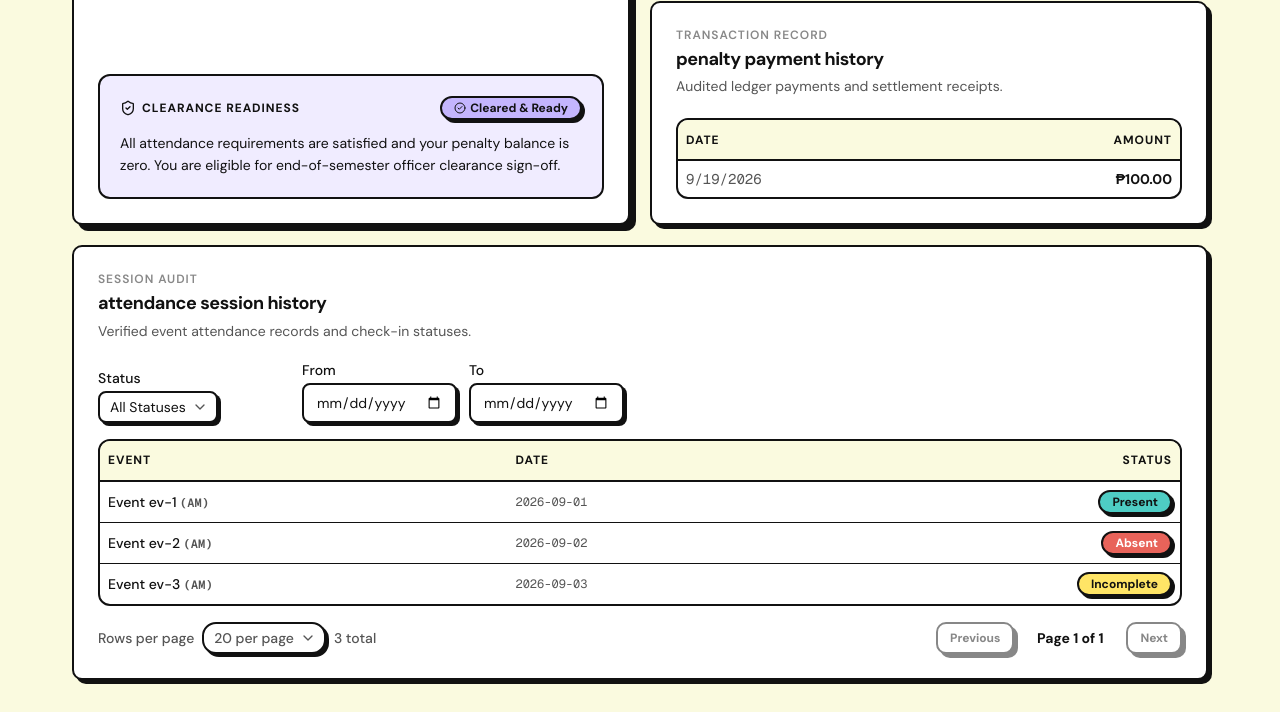
Test: MyAttendanceView session audit filter + pagination (Issue #219) › filters the session audit by status and resets to page 1
The image size is (1280, 712).
(page scrolled)
Expected: the message "Present" is shown, left=1098, top=490, right=1172, bottom=514
Expected: the message "Absent" is shown, left=1101, top=530, right=1172, bottom=554
Click the dropdown named "filter by status" at (158, 406), box left=98, top=390, right=218, bottom=422
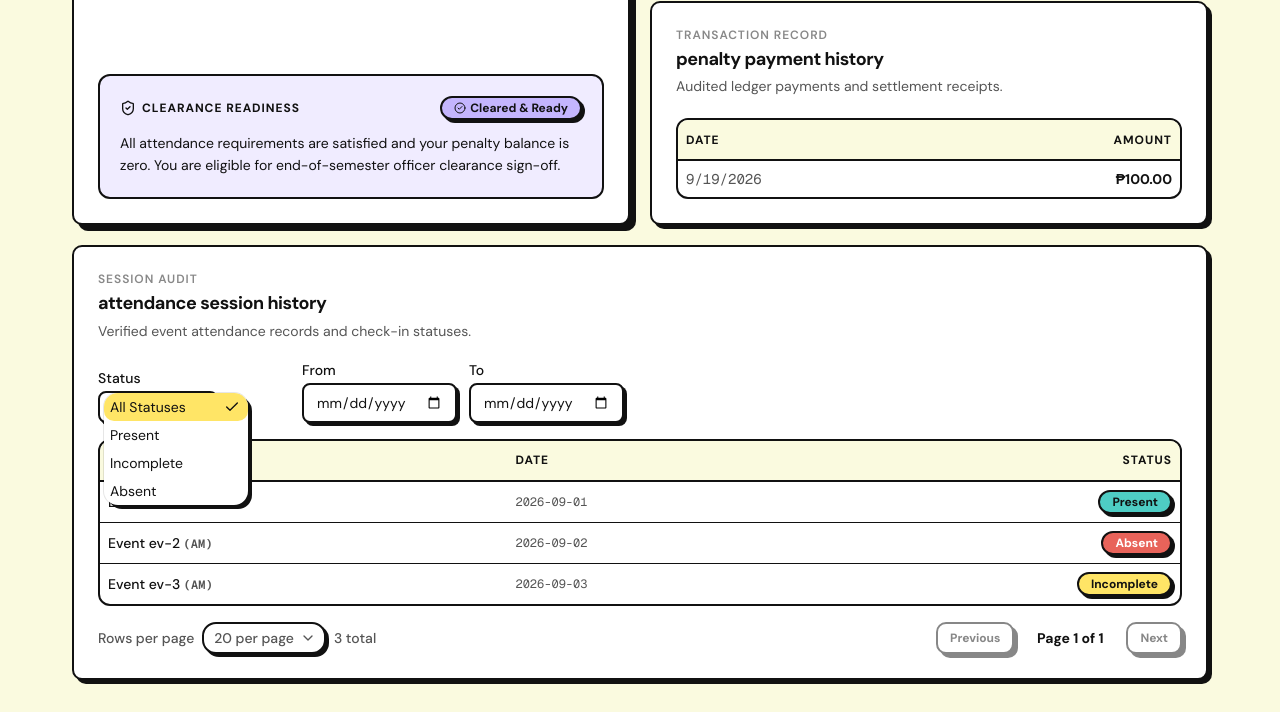
Click the option "Absent" at (133, 490), box left=110, top=482, right=157, bottom=500
(page scrolled)
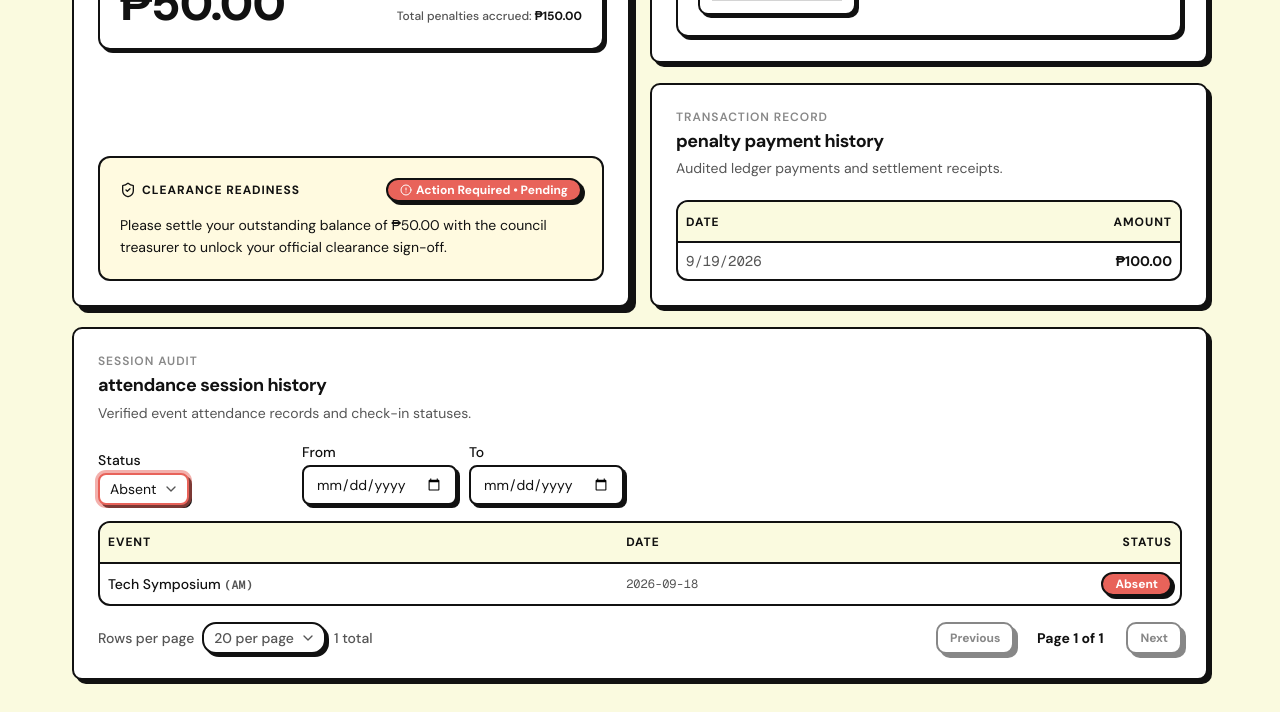
Expected: the message "Absent" is shown, left=1101, top=572, right=1172, bottom=596
Expected: the message with test id "status-badge-ev-1-am" is gone
Expected: the message with test id "status-badge-ev-3-am" is gone
